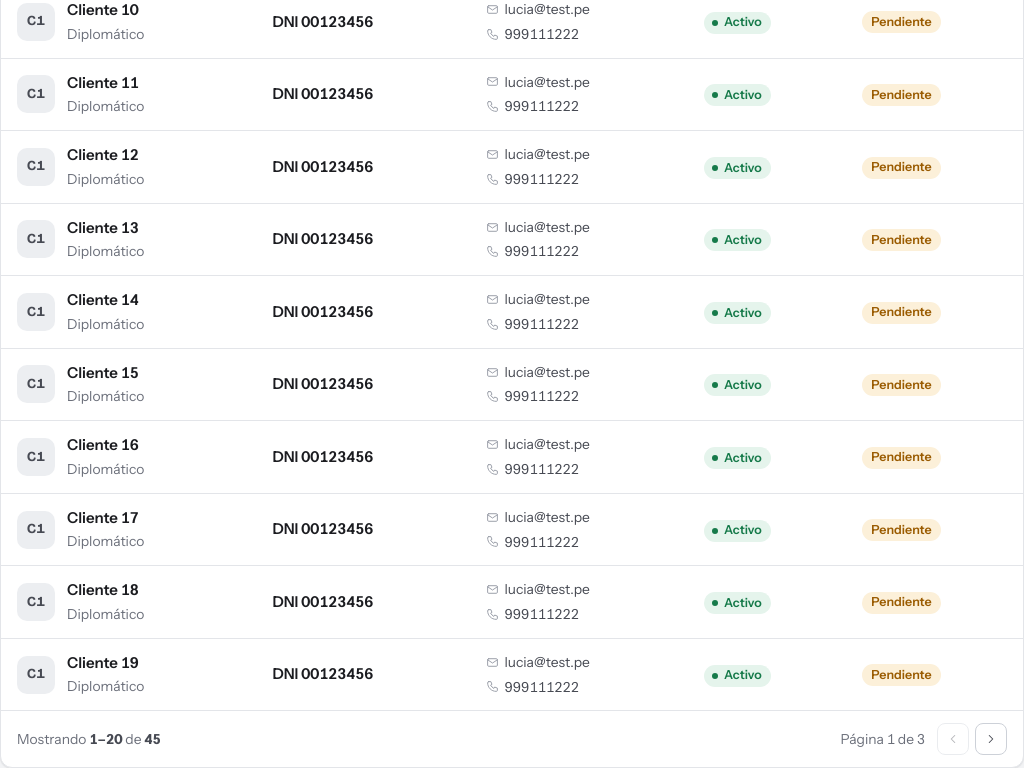
listing › pages through results and returns to page 1 when a filter changes
(page scrolled)
Expected: the text "Página 1 de 3" is shown, [840,729,925,750]
Click the button named "Página siguiente". click: (991, 739)
box: [975,723,1007,755]
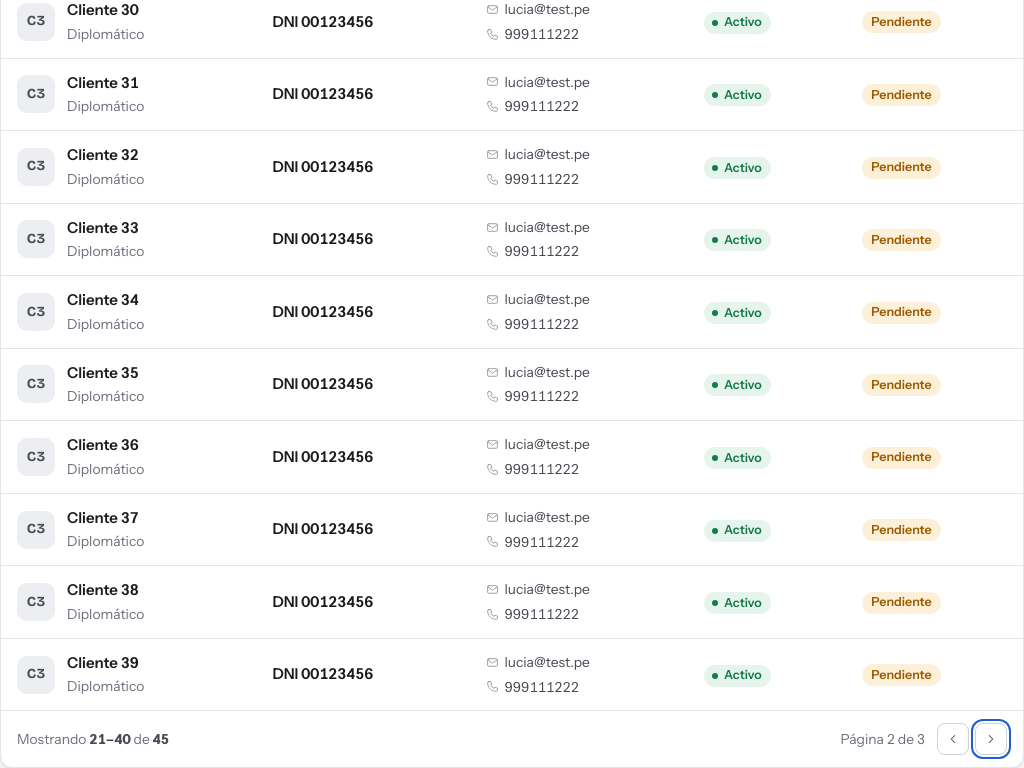
Expected: the button named "Página anterior" is enabled, [937,723,969,755]
Click the button named "Página siguiente". click: (991, 739)
box: [975,723,1007,755]
(page scrolled)
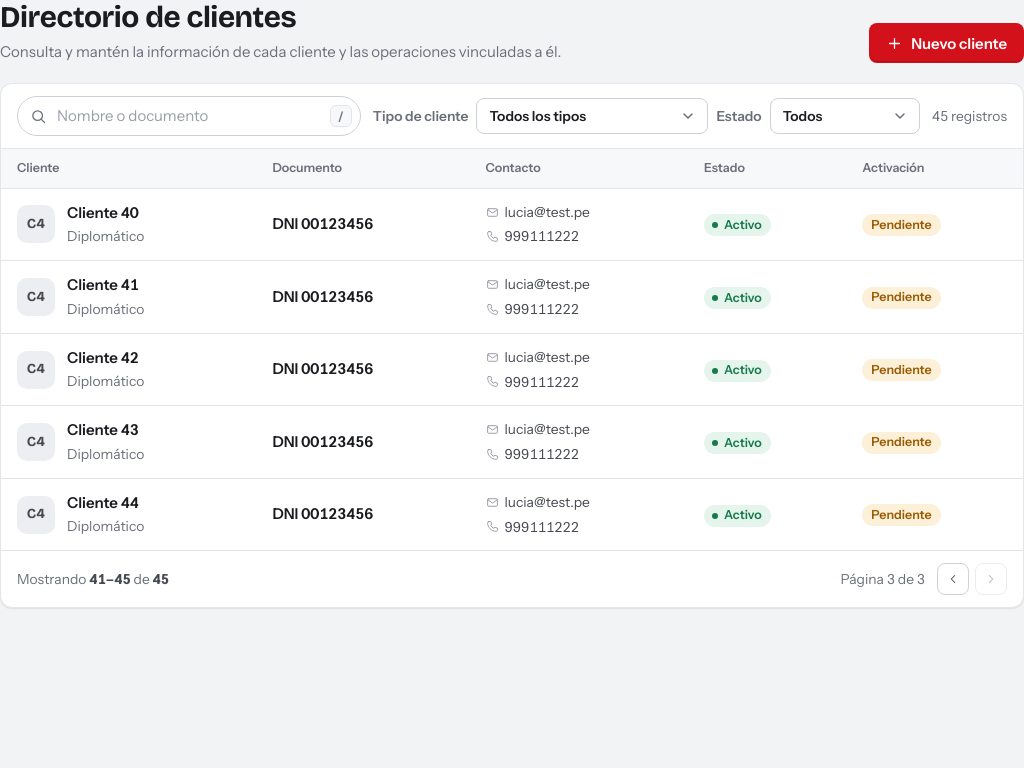
Expected: the button named "Página siguiente" is disabled, [975,563,1007,595]
Expected: the button "Cliente 40" is shown, [67,202,139,224]
Select "Activo" in the dropdown labelled "Estado". click: (845, 116)
box: [770,98,920,134]
(page scrolled)
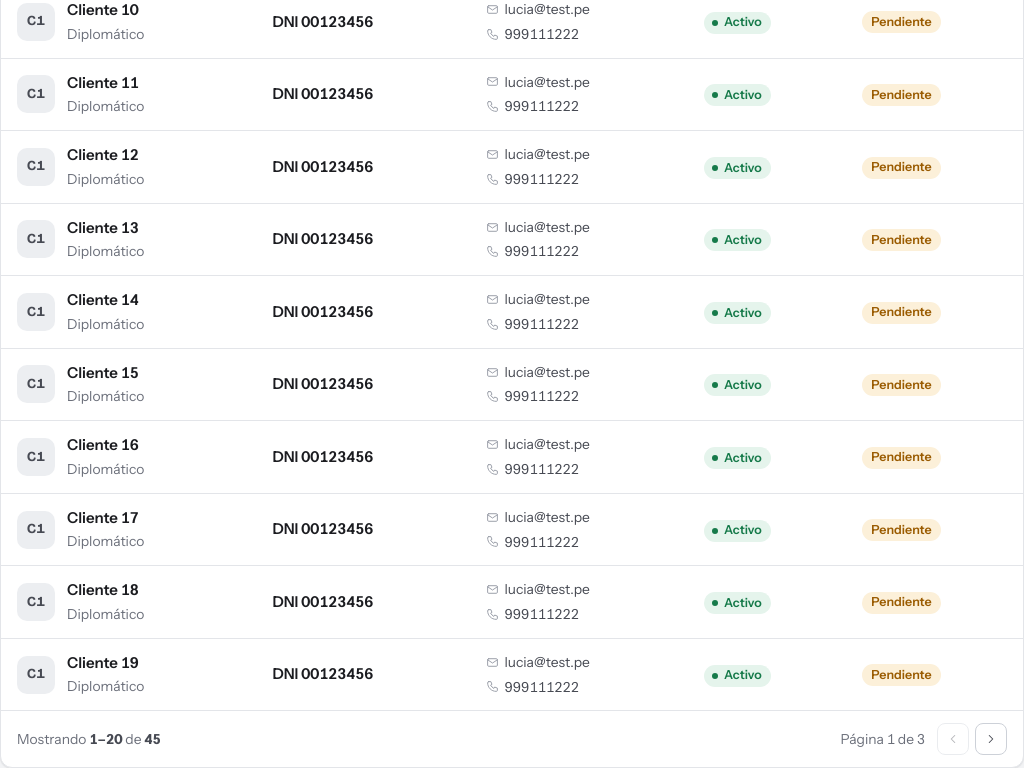
Expected: the text "Página 1 de 3" is shown, [840,729,925,750]
